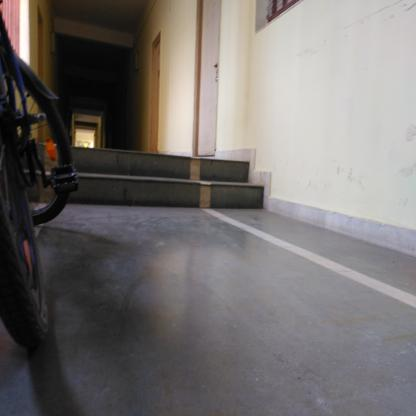stairs: (81, 153, 249, 216)
